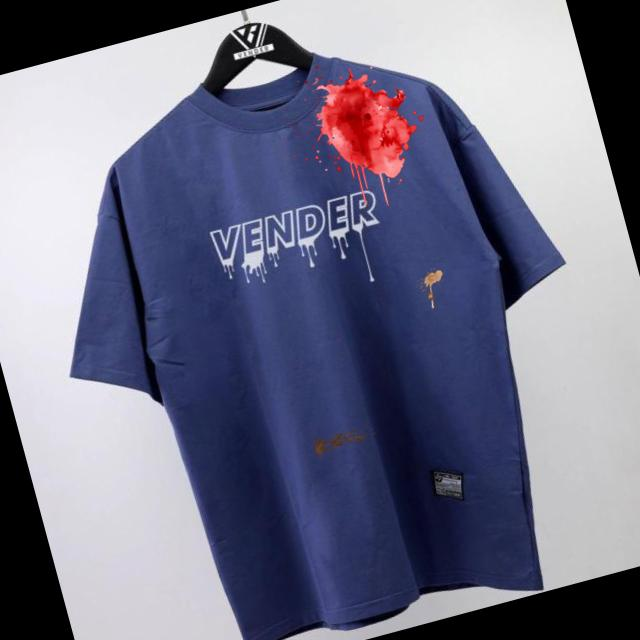stain: (302, 56, 432, 206), (296, 409, 388, 472), (404, 254, 459, 318)
